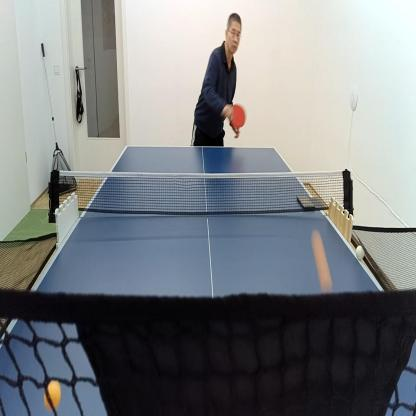Ball: (310, 227, 334, 295), (43, 375, 63, 412), (355, 243, 366, 261)
